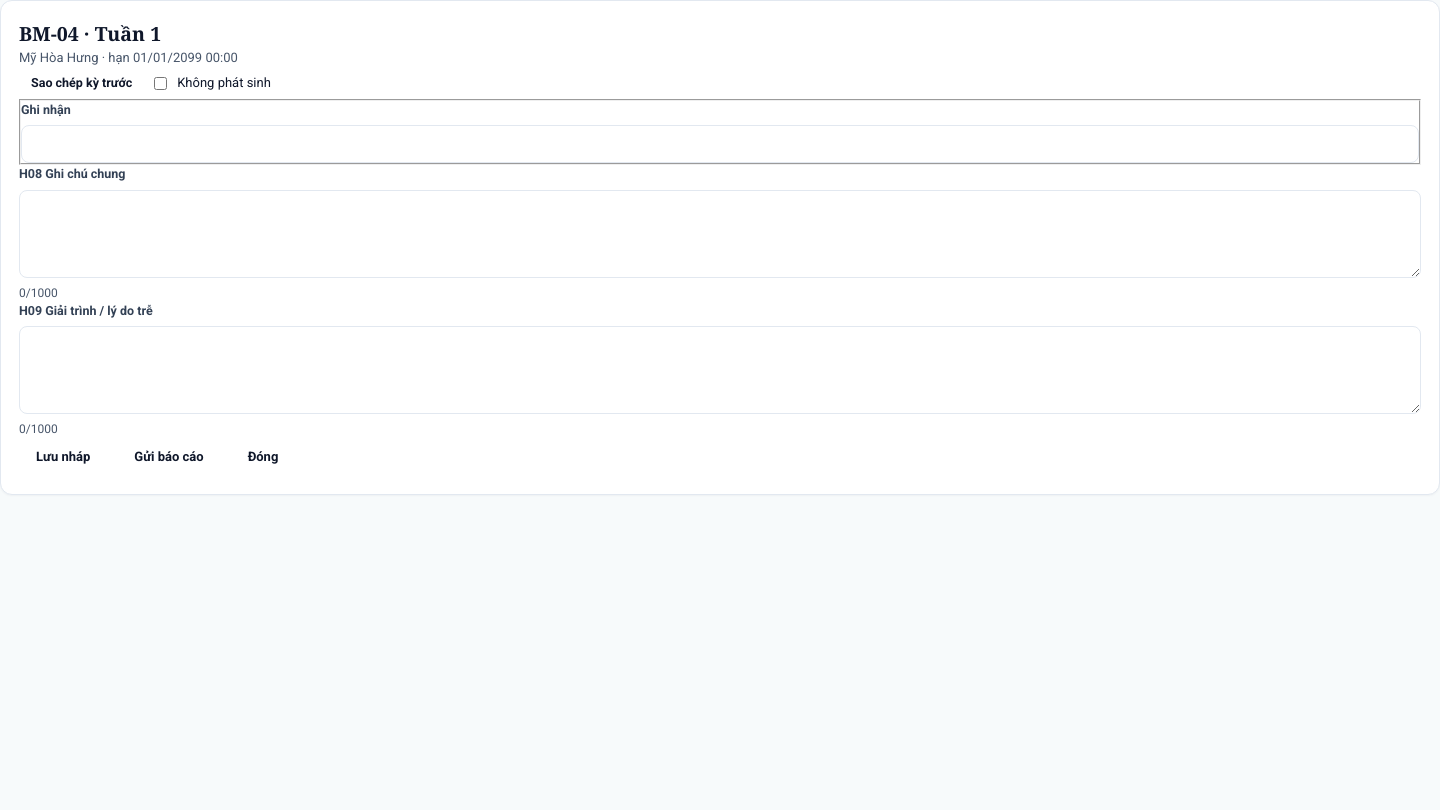
Test case: CN-07 — nạp nháp máy chủ khi mở công việc › người dùng sửa không phát sinh trước khi nháp máy chủ về → giữ nội dung đã nhập, báo có nháp máy chủ, bấm nạp mới thay
Step 1. Click the checkbox labelled "Không phát sinh" → [161, 83], box [154, 77, 167, 90]
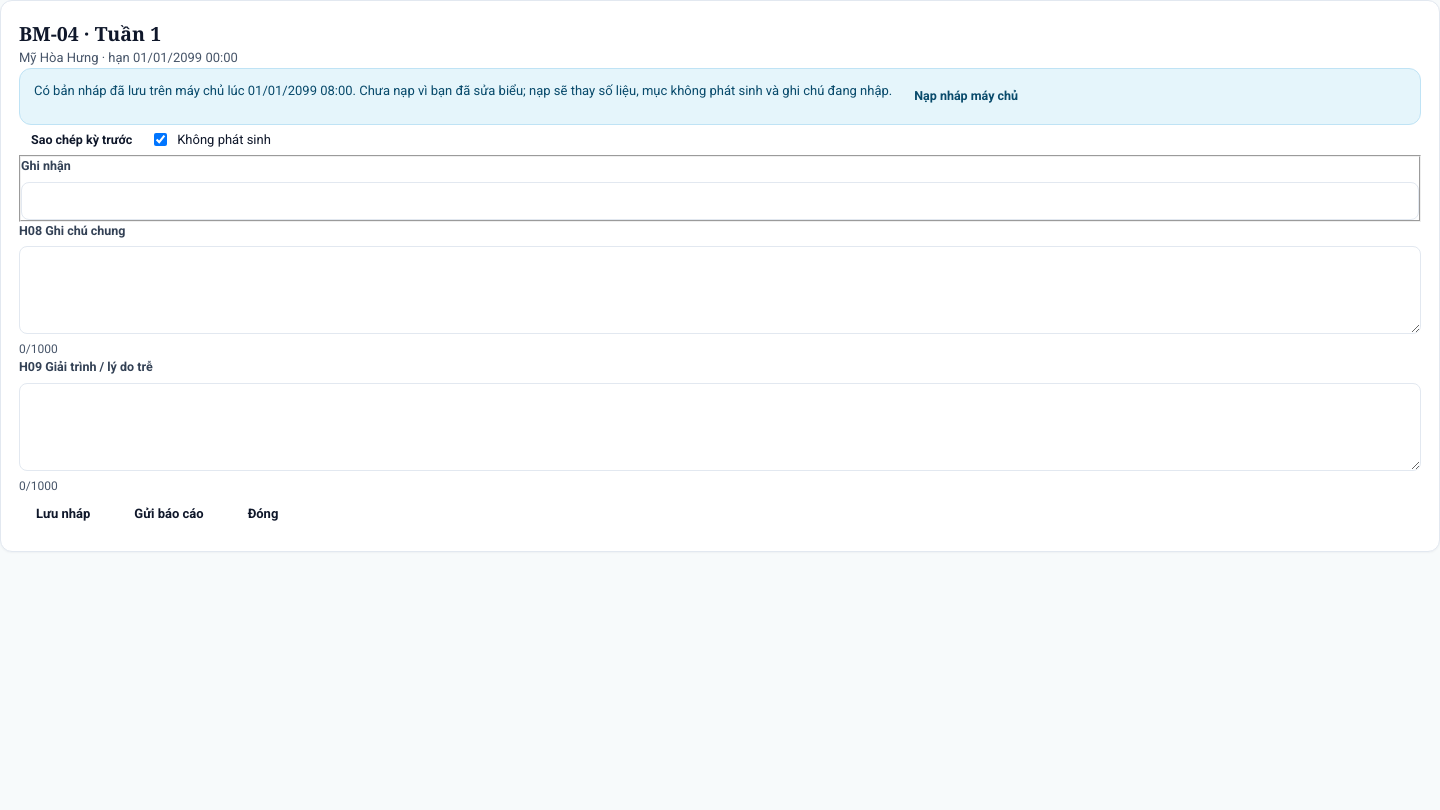
Expected: the field labelled "Ghi nhận" is empty, [21, 182, 1419, 220]
Expected: the checkbox labelled "Không phát sinh" is checked, [154, 133, 167, 146]
Step 2. Click the button "Nạp nháp máy chủ" → [966, 96], box [902, 81, 1030, 112]
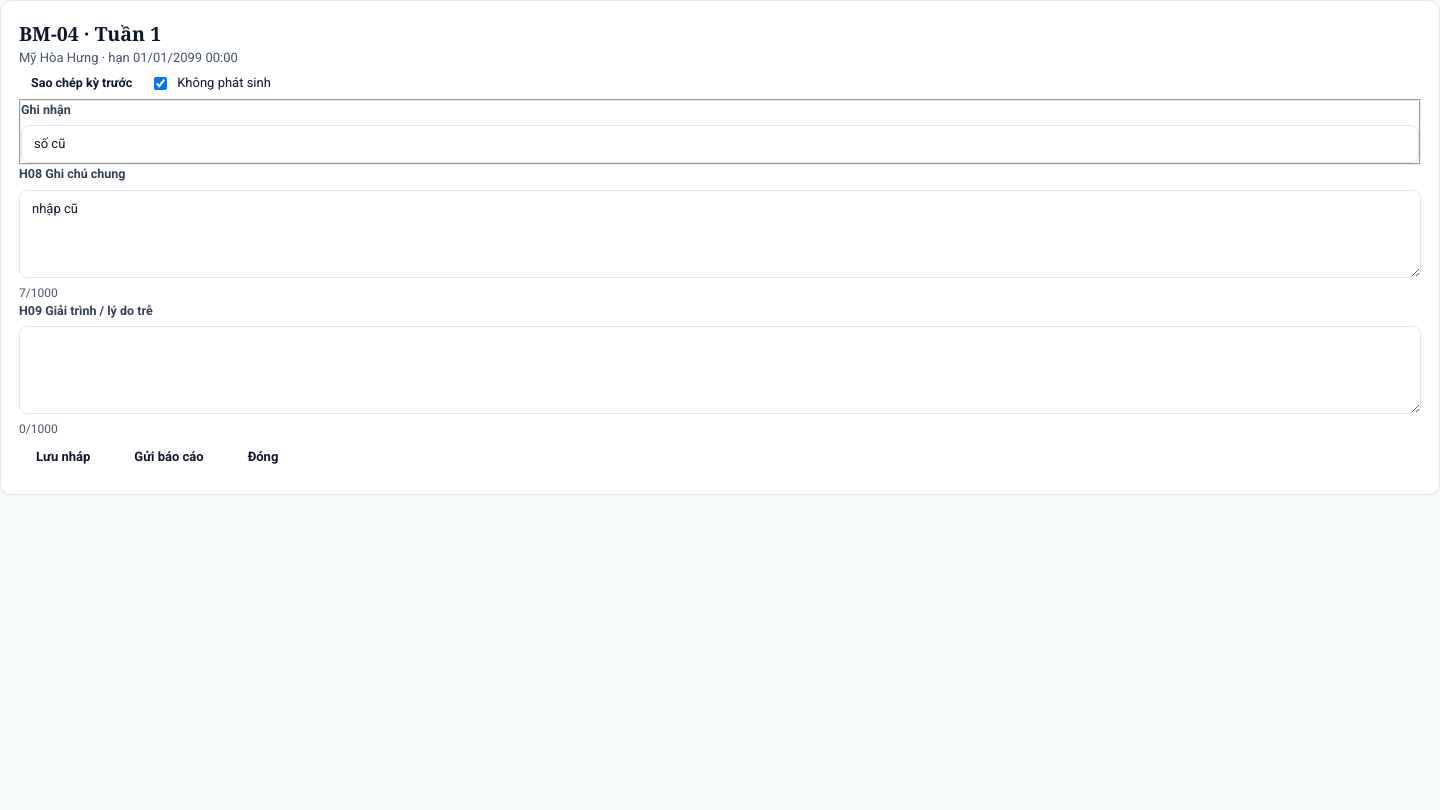
Expected: the checkbox labelled "Không phát sinh" is checked, [154, 77, 167, 90]
Expected: the field labelled "Ghi nhận" holds "số cũ", [21, 125, 1419, 163]
Expected: the text box labelled "H08 Ghi chú chung" holds "nhập cũ", [19, 190, 1421, 278]
